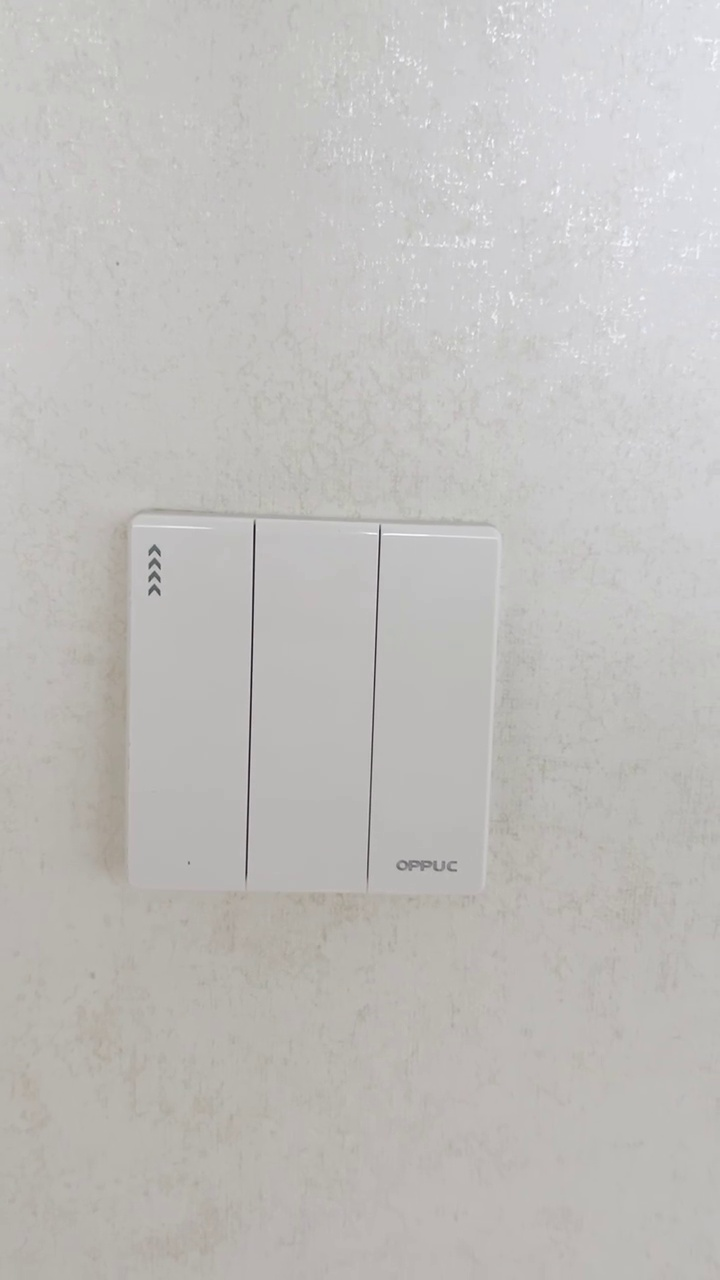button1: (254, 520, 374, 892), (375, 525, 492, 894), (130, 529, 248, 886)
